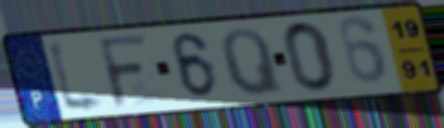0: (280, 20, 340, 95)
6: (338, 13, 391, 93), (169, 31, 220, 102)
F: (95, 31, 151, 111)
L: (44, 36, 112, 117)
Q: (218, 26, 287, 99)
